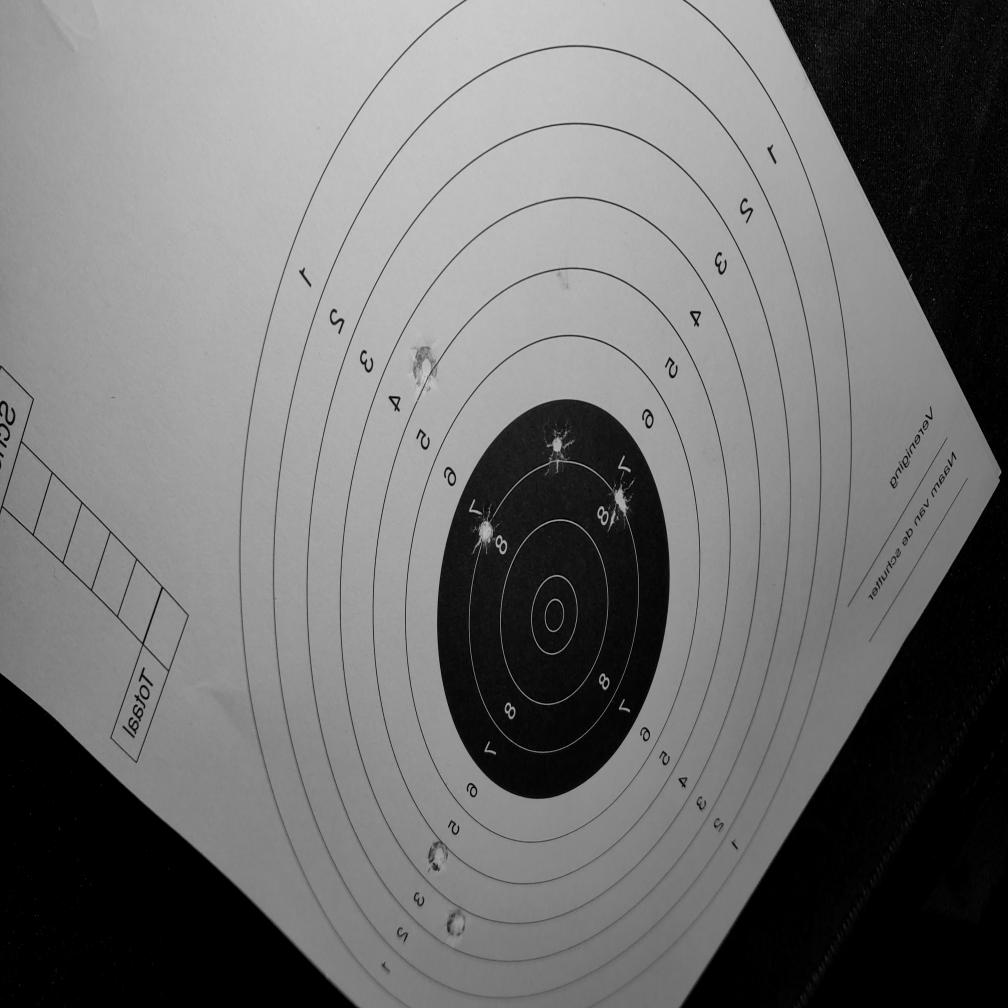3: (445, 905, 467, 947)
5: (409, 339, 438, 401), (426, 840, 450, 883)
8: (541, 414, 577, 480), (604, 472, 636, 530), (472, 503, 501, 560)
Target: (238, 0, 854, 1008)
black_contour: (438, 396, 670, 802)
